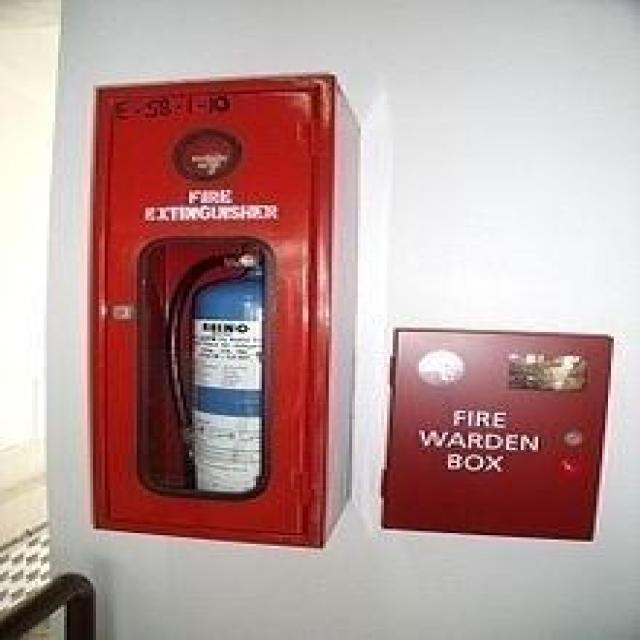fire_extinguisher: (151, 230, 332, 528)
